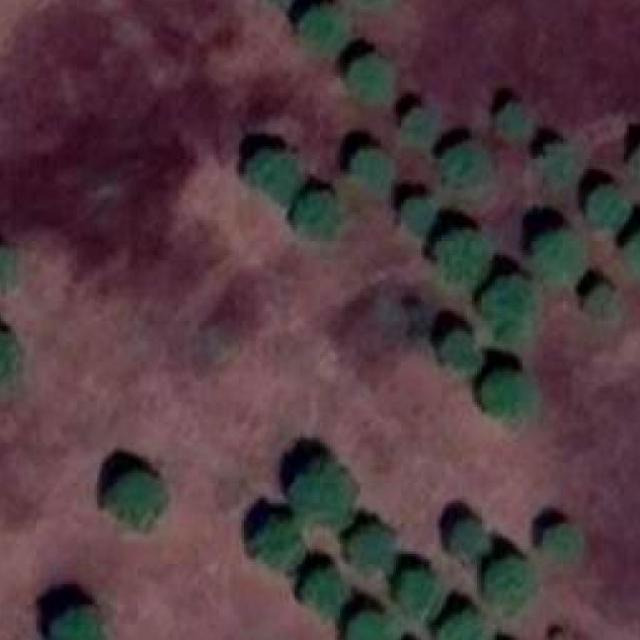Tree: (284, 465, 356, 523), (480, 270, 534, 340), (110, 470, 166, 528), (482, 556, 533, 615), (249, 149, 308, 199), (440, 142, 495, 195), (434, 230, 485, 280), (343, 527, 399, 572), (482, 367, 531, 417), (533, 230, 583, 278), (249, 522, 303, 565), (348, 55, 394, 103), (51, 604, 110, 640), (394, 567, 439, 613), (305, 2, 350, 48), (536, 142, 581, 187), (348, 149, 392, 194), (396, 106, 439, 152), (300, 192, 338, 243), (541, 524, 584, 569), (586, 187, 627, 233), (303, 569, 348, 610), (449, 516, 487, 562), (345, 609, 398, 640), (441, 611, 492, 640), (586, 284, 622, 324), (0, 329, 26, 382), (447, 329, 480, 370), (401, 197, 431, 233), (500, 103, 531, 134), (624, 225, 640, 280), (0, 247, 18, 285), (629, 139, 640, 187)
